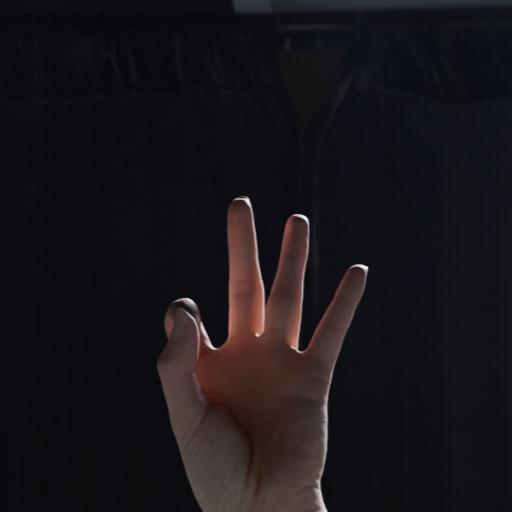F: (128, 179, 386, 512)
